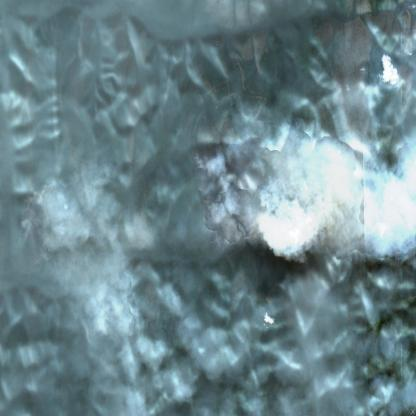fire: (186, 134, 272, 256), (18, 188, 52, 278)
